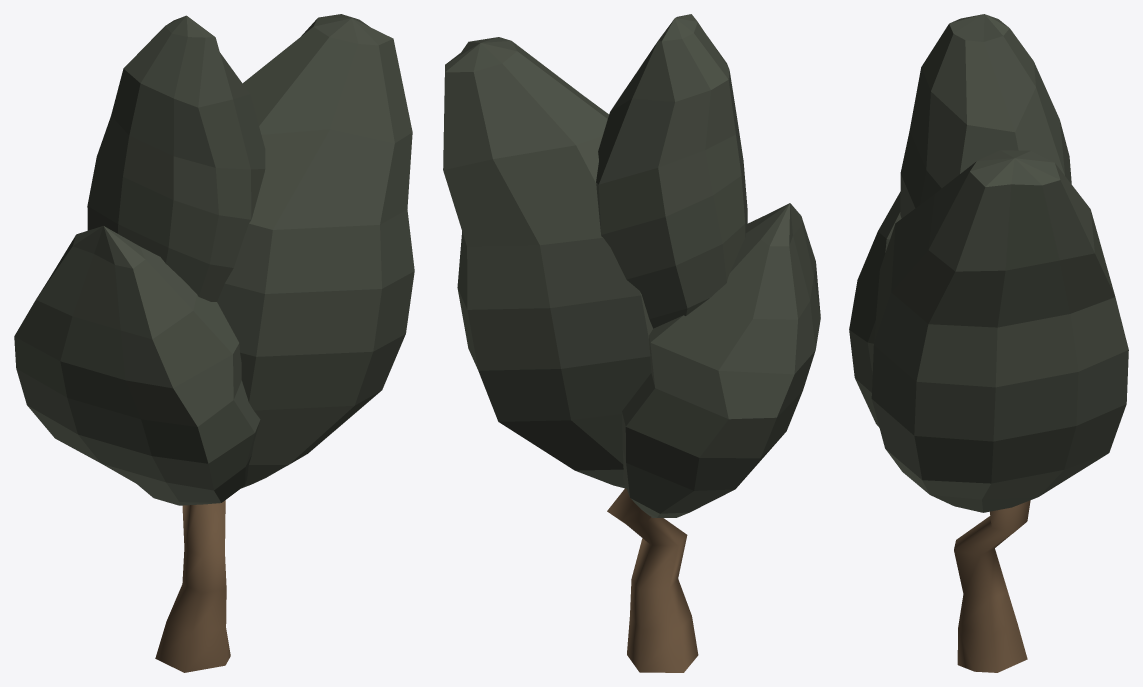
File: Tree3.fbx
The picture shows the model from 3 angles, left to right: view 1: azimuth 30°, elevation 25°; view 2: azimuth 150°, elevation 25°; view 3: azimuth 270°, elevation 25°; orthographic projection.
Visible parts, largest first — view 1: Tree3; view 2: Tree3; view 3: Tree3.
Part boxes in pixels (left/top/right/bottom): Tree3: left=14, top=14, right=414, bottom=672; Tree3: left=443, top=14, right=820, bottom=672; Tree3: left=849, top=14, right=1128, bottom=672.
Size of the model in its own units: 4.47 by 7.71 by 3.06.
